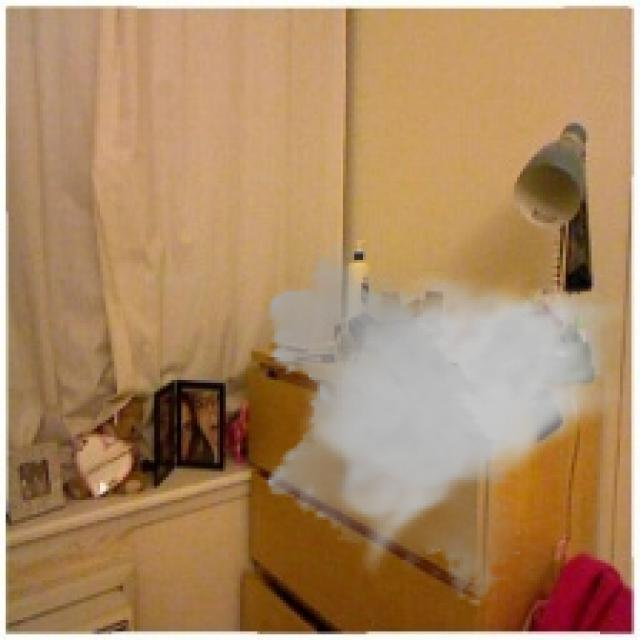Smoke: (257, 242, 629, 608)
